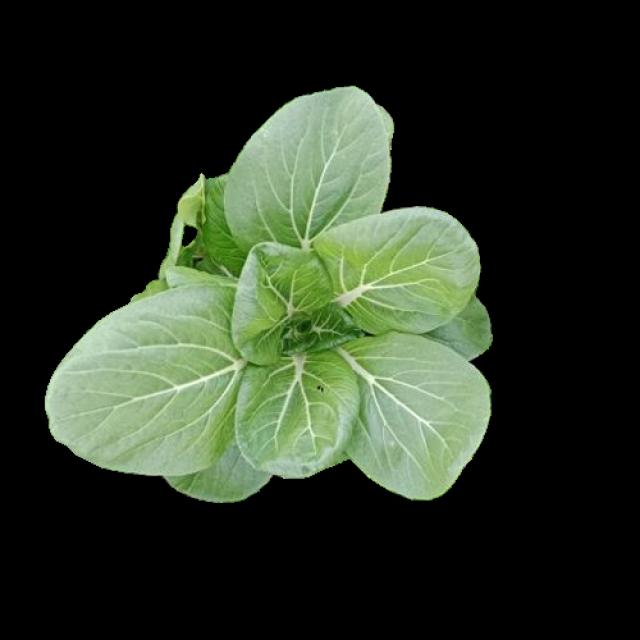mature: (48, 87, 490, 499)
unhealthy: (152, 86, 390, 294), (232, 338, 367, 475)
